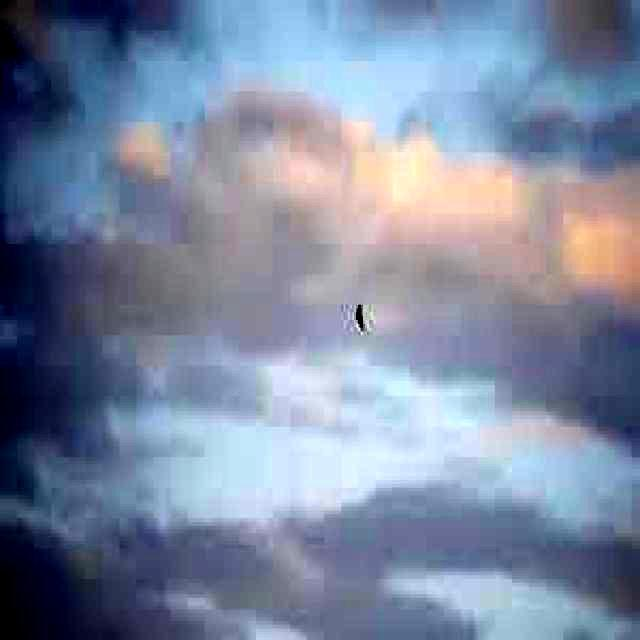bird: (352, 297, 368, 335)
